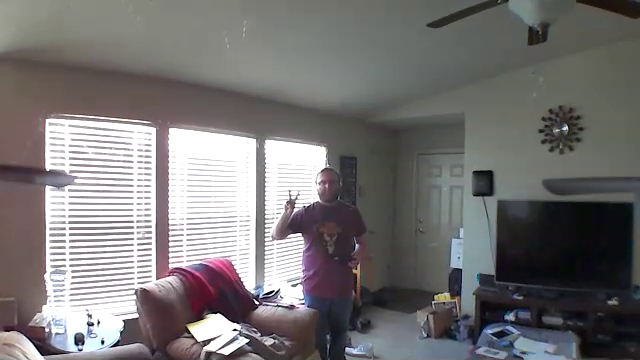peace: (282, 188, 302, 212)
